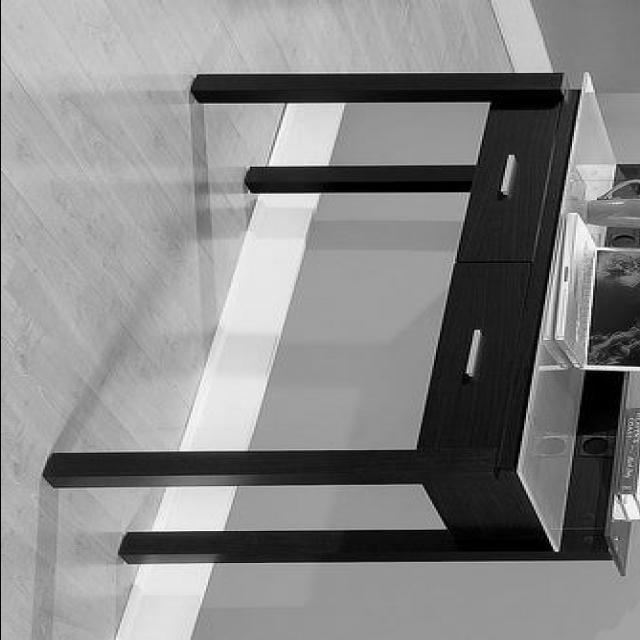table: (40, 72, 639, 583)
